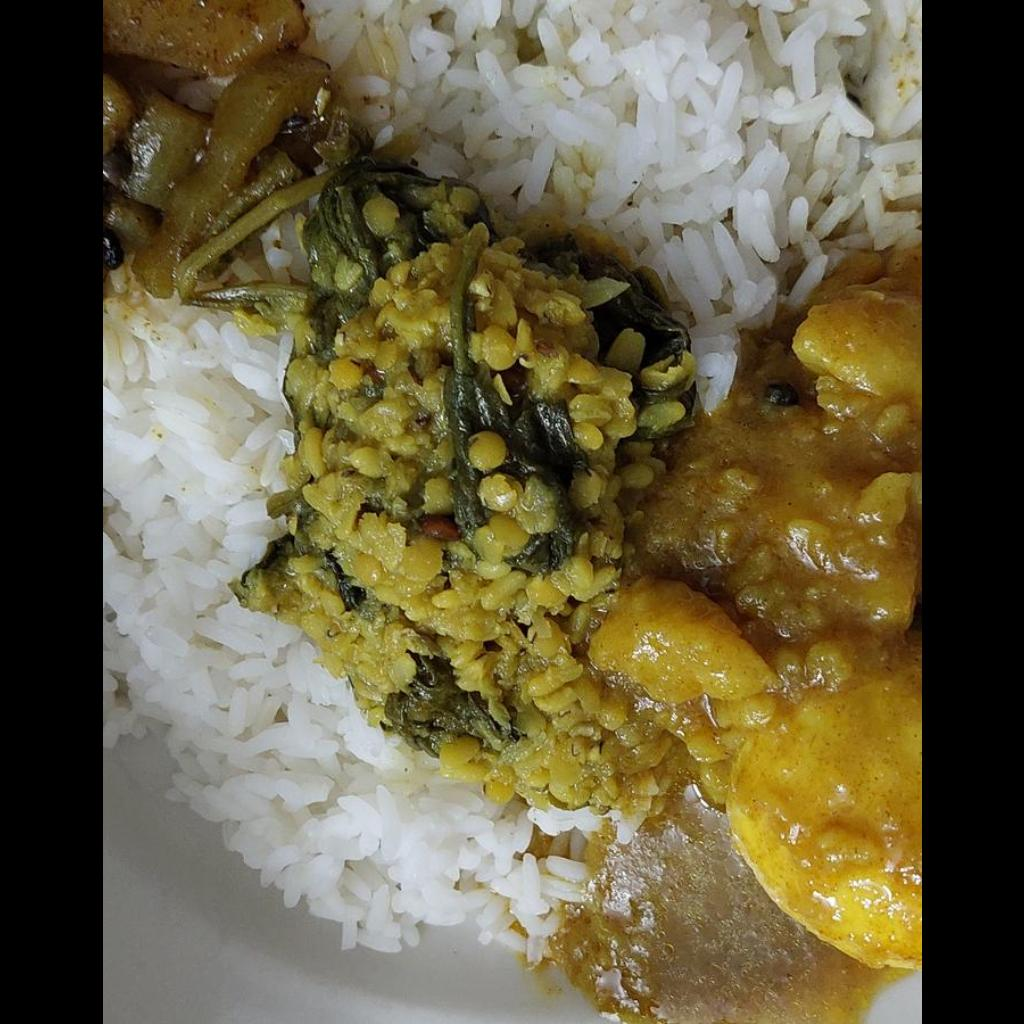daal: (230, 229, 663, 815)
lau: (102, 0, 350, 298)
potato: (588, 281, 920, 966)
rice: (102, 274, 574, 952), (311, 0, 920, 309)
